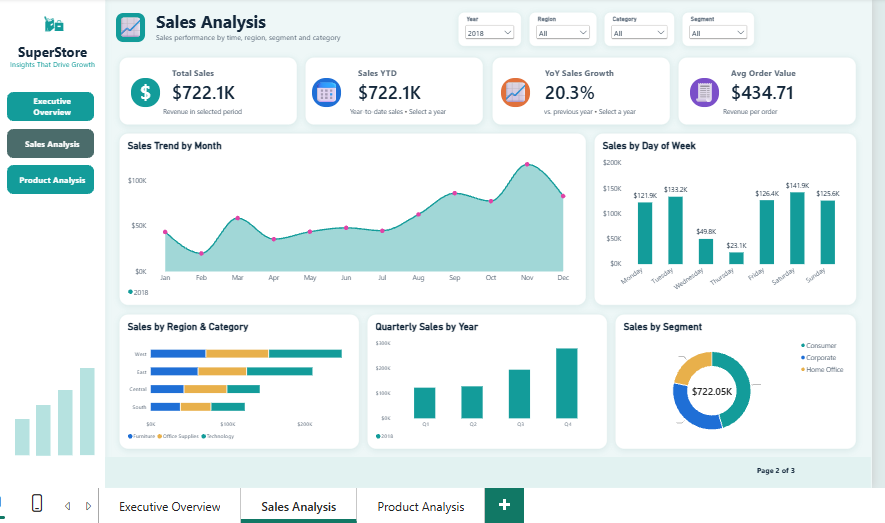

The dashboard page shown, as its layout file describes it:
{"tool":"powerbi","page":{"name":"Sales Analysis","canvas":[1920,1080],"ordinal":1},"visuals":[{"type":"textbox","box":[0,0,232,1080],"z":0},{"type":"textbox","box":[256,32,64,64],"z":1000},{"type":"textbox","box":[344,26,700,50],"z":2000},{"type":"textbox","box":[344,74,700,30],"z":3000},{"type":"slicer","fields":{"Values":["DimDate.Year"]},"box":[1010,30,140,76],"z":4000},{"type":"slicer","fields":{"Values":["DimGeography.Region"]},"box":[1166,30,150,76],"z":5000},{"type":"slicer","fields":{"Values":["DimProducts.Category"]},"box":[1332,30,156,76],"z":6000},{"type":"slicer","fields":{"Values":["DimCustomers.Segment"]},"box":[1504,30,160,76],"z":7000},{"type":"textbox","box":[232,1012,1688,68],"z":8000},{"type":"textbox","box":[1668,1030,220,32],"z":9000},{"type":"cardVisual","fields":{"Data":["_Measures.Total Sales"]},"box":[262,130,393,150],"z":10000},{"type":"textbox","box":[288,176,64,64],"z":11000},{"type":"textbox","box":[360,240,287,28],"z":12000},{"type":"cardVisual","fields":{"Data":["_Measures.Sales YTD"]},"box":[673,130,393,150],"z":13000},{"type":"textbox","box":[688,176,64,64],"z":14000},{"type":"textbox","box":[771,240,287,28],"z":15000},{"type":"cardVisual","fields":{"Data":["_Measures.Sales YoY %"]},"box":[1084,130,393,150],"z":16000},{"type":"textbox","box":[1104,176,64,64],"z":17000},{"type":"textbox","box":[1200,240,224,32],"z":18000},{"type":"cardVisual","fields":{"Data":["_Measures.Avg Orders Value"]},"box":[1495,130,393,150],"z":19000},{"type":"textbox","box":[1520,176,64,64],"z":20000},{"type":"textbox","box":[1593,240,287,28],"z":21000},{"type":"areaChart","title":"Sales Trend by Month","fields":{"Category":["DimDate.Month Name"],"Series":["DimDate.Year"],"Y":["_Measures.Total Sales"]},"box":[262,298,1030,380],"z":22000},{"type":"clusteredColumnChart","title":"Sales by Day of Week","fields":{"Category":["DimDate.Day of week"],"Y":["_Measures.Total Sales"]},"box":[1309,298,579,380],"z":23000},{"type":"barChart","title":"Sales by Region & Category","fields":{"Category":["DimGeography.Region"],"Series":["DimProducts.Category"],"Y":["_Measures.Total Sales"]},"box":[262,696,530,298],"z":24000},{"type":"clusteredColumnChart","title":"Quarterly Sales by Year","fields":{"Category":["DimDate.Quarter"],"Series":["DimDate.Year"],"Y":["_Measures.Total Sales"]},"box":[809,696,530,298],"z":25000},{"type":"donutChart","title":"Sales by Segment","fields":{"Category":["DimCustomers.Segment"],"Y":["_Measures.Total Sales"]},"box":[1356,696,532,298],"z":26000},{"type":"textbox","box":[80,16,80,80],"z":27000},{"type":"textbox","box":[0,96,232,40],"z":28000},{"type":"textbox","box":[0,134,232,26],"z":29000},{"type":"actionButton","box":[16,208,192,64],"z":30000},{"type":"actionButton","box":[16,288,192,64],"z":31000},{"type":"actionButton","box":[16,368,192,64],"z":32000},{"type":"shape","box":[32,928,32,80],"z":33000},{"type":"shape","box":[80,896,32,112],"z":34000},{"type":"shape","box":[128,864,32,144],"z":35000},{"type":"shape","box":[176,816,32,192],"z":36000}]}

Visuals, with their boxes on the page's 1920x1080 design canvas (x1, y1, x2, y2). These are canvas units, not pixel positions in the 885x523 screenshot, which may show the page scaled, cropped or inside an application window:
textbox: 0,0,232,1080
textbox: 256,32,320,96
textbox: 344,26,1044,76
textbox: 344,74,1044,104
slicer - DimDate.Year: 1010,30,1150,106
slicer - DimGeography.Region: 1166,30,1316,106
slicer - DimProducts.Category: 1332,30,1488,106
slicer - DimCustomers.Segment: 1504,30,1664,106
textbox: 232,1012,1920,1080
textbox: 1668,1030,1888,1062
cardVisual - _Measures.Total Sales: 262,130,655,280
textbox: 288,176,352,240
textbox: 360,240,647,268
cardVisual - _Measures.Sales YTD: 673,130,1066,280
textbox: 688,176,752,240
textbox: 771,240,1058,268
cardVisual - _Measures.Sales YoY %: 1084,130,1477,280
textbox: 1104,176,1168,240
textbox: 1200,240,1424,272
cardVisual - _Measures.Avg Orders Value: 1495,130,1888,280
textbox: 1520,176,1584,240
textbox: 1593,240,1880,268
"Sales Trend by Month" areaChart: 262,298,1292,678
"Sales by Day of Week" clusteredColumnChart: 1309,298,1888,678
"Sales by Region & Category" barChart: 262,696,792,994
"Quarterly Sales by Year" clusteredColumnChart: 809,696,1339,994
"Sales by Segment" donutChart: 1356,696,1888,994
textbox: 80,16,160,96
textbox: 0,96,232,136
textbox: 0,134,232,160
actionButton: 16,208,208,272
actionButton: 16,288,208,352
actionButton: 16,368,208,432
shape: 32,928,64,1008
shape: 80,896,112,1008
shape: 128,864,160,1008
shape: 176,816,208,1008
